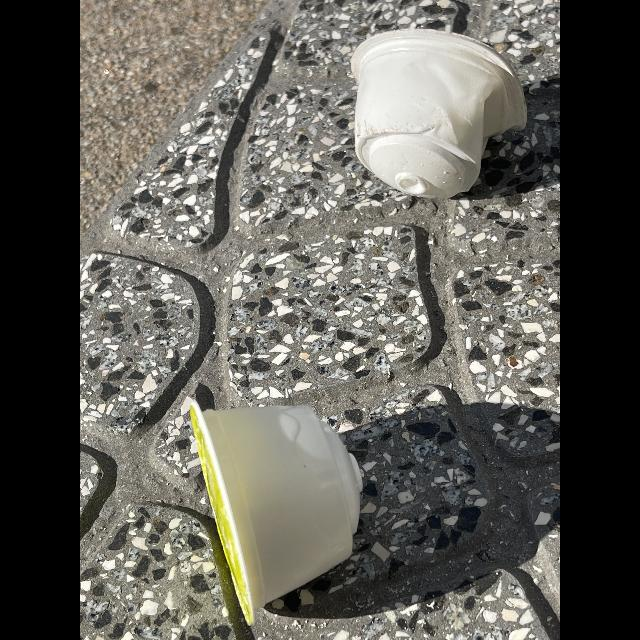damaged_capsule: (342, 26, 550, 208)
intact_capsule: (178, 389, 373, 640)
